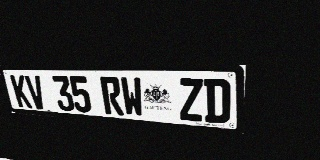3: (52, 76, 75, 112)
5: (69, 76, 93, 113)
D: (204, 78, 231, 124)
K: (10, 75, 33, 108)
R: (100, 77, 124, 116)
V: (24, 75, 47, 109)
W: (120, 77, 145, 117)
Z: (178, 78, 204, 122)
